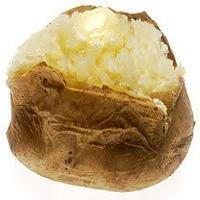biodegradable: (6, 4, 195, 194)
